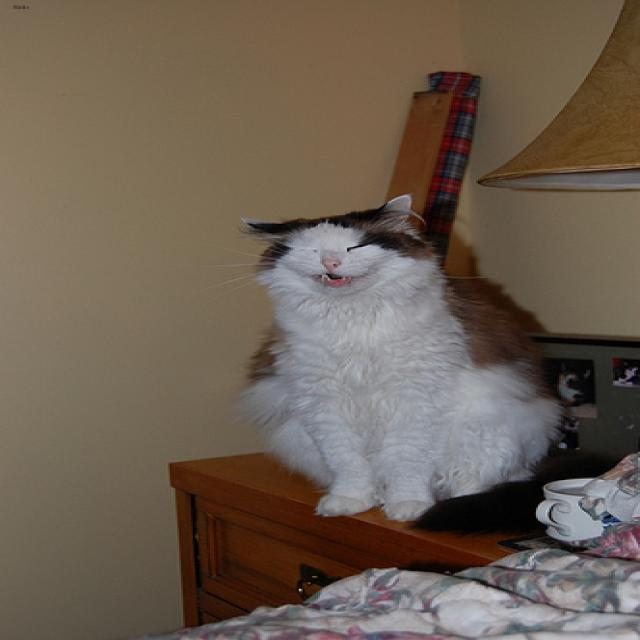Ragdoll: (235, 193, 411, 293)
